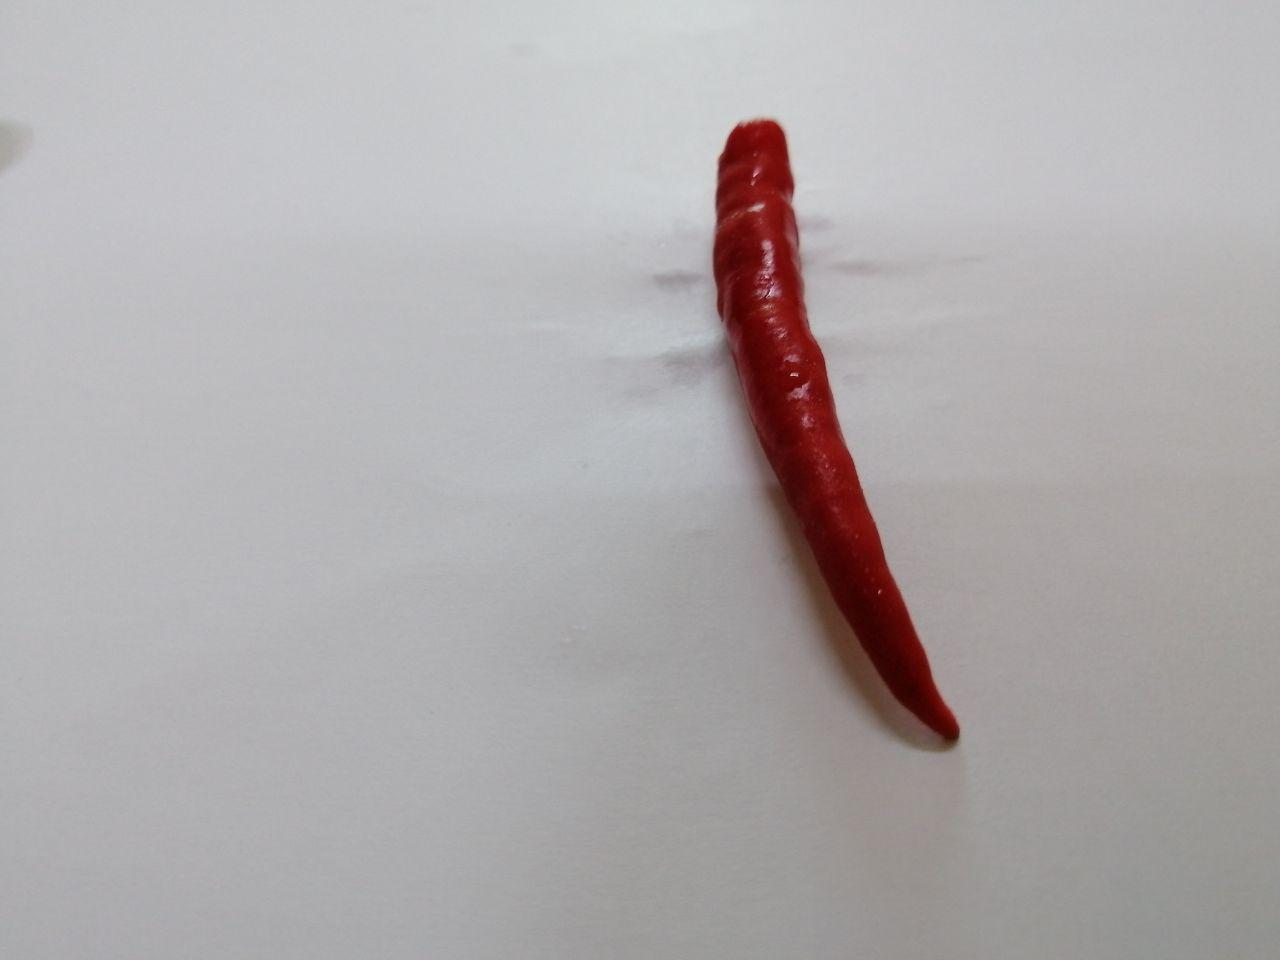lada merah: (678, 94, 1003, 778)
